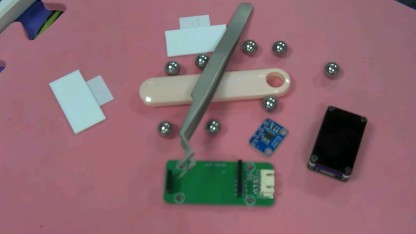ironball: (319, 59, 342, 78), (240, 36, 259, 56), (191, 52, 211, 71), (162, 54, 180, 75), (150, 117, 168, 137), (269, 37, 287, 56), (259, 94, 276, 113), (203, 116, 219, 135)
